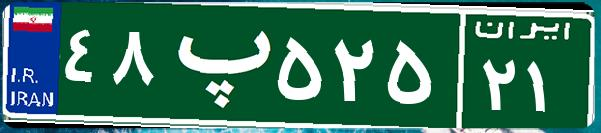1: (525, 38, 570, 115)
2: (330, 28, 385, 110), (475, 38, 525, 113)
4: (57, 26, 110, 107)
5: (385, 28, 445, 110), (273, 28, 330, 110)
8: (110, 28, 158, 105)
پ: (158, 15, 273, 115)
